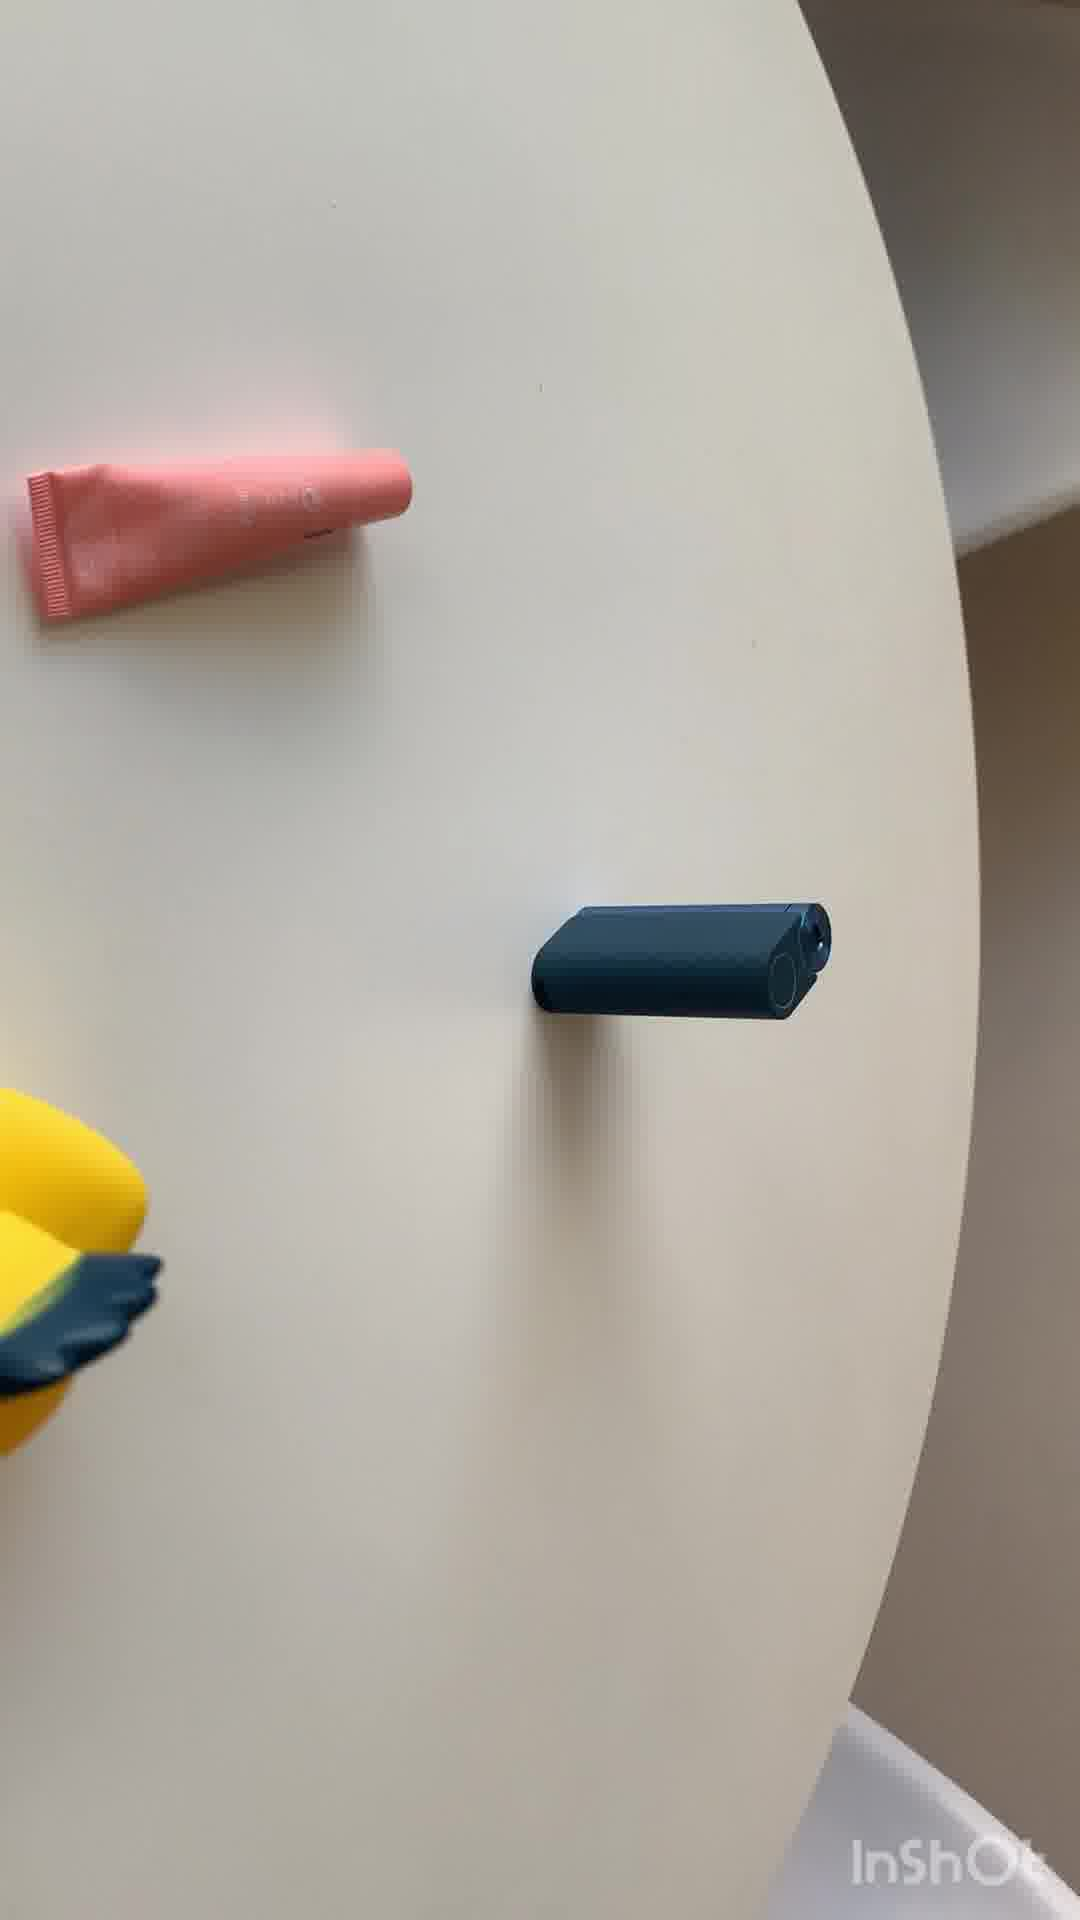duck: (1, 1064, 164, 1480)
glo: (521, 898, 839, 1031)
lip balm: (22, 439, 418, 628)
